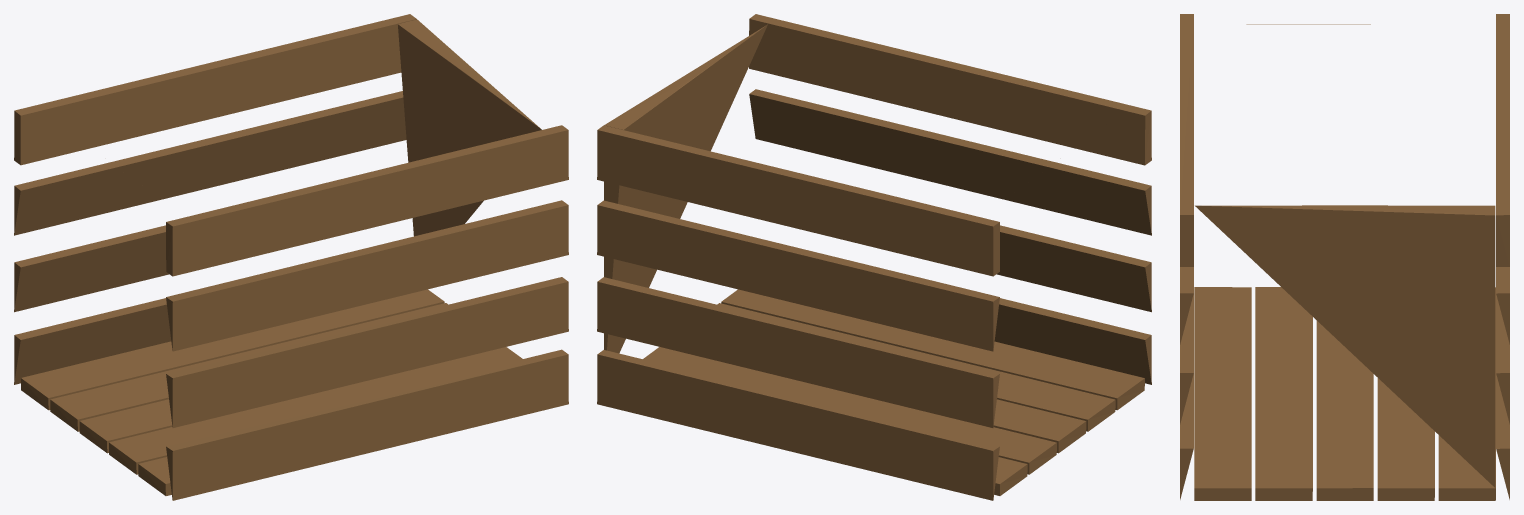
The model's file is wooden-crate.lod2.glb.
The picture shows the model from 3 angles, left to right: view 1: azimuth 30°, elevation 25°; view 2: azimuth 150°, elevation 25°; view 3: azimuth 270°, elevation 25°; orthographic projection. The views are drawn at different scales.
Visible parts, largest first — view 1: Object_4; view 2: Object_4; view 3: Object_4.
Boxes of the visible parts, bbox=[...] form: Object_4: bbox=[14, 14, 568, 500]; Object_4: bbox=[597, 14, 1151, 500]; Object_4: bbox=[1180, 14, 1509, 500].
Bounding box in the file's own units: 0.9 × 0.5964 × 0.6234.
